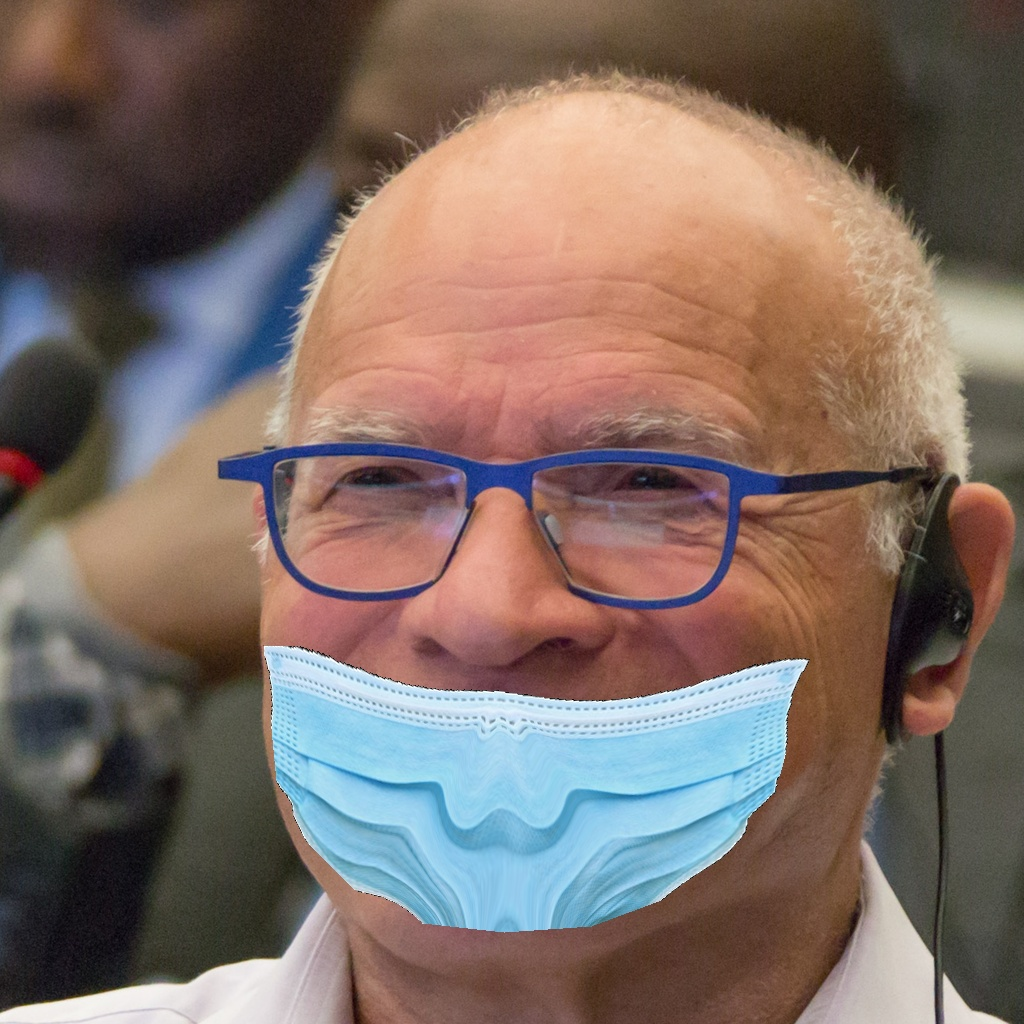mascarilla_mal_puesta: (172, 338, 922, 995)
